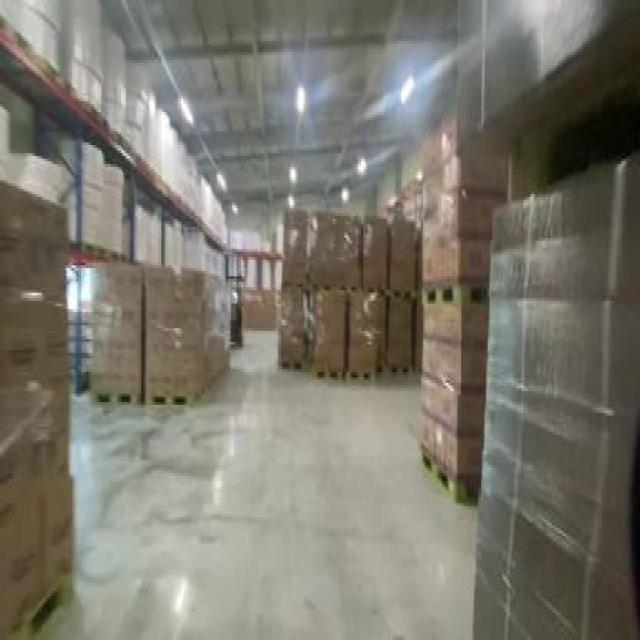box: (462, 178, 638, 637), (0, 178, 77, 626), (452, 6, 638, 172), (270, 214, 424, 378), (88, 257, 232, 419)
white_roll: (60, 0, 129, 131), (162, 117, 230, 240), (62, 142, 129, 263), (0, 3, 68, 68), (166, 222, 234, 284), (125, 66, 163, 164), (134, 200, 161, 265), (234, 257, 288, 285), (231, 224, 286, 249)
